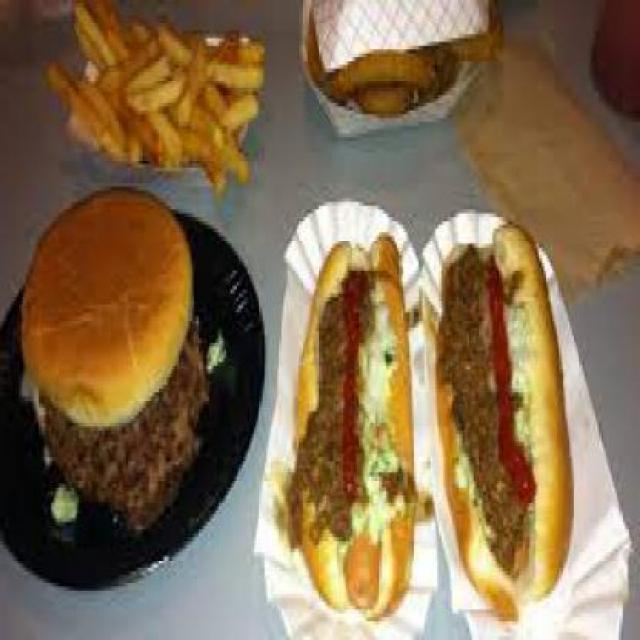hamburger: (2, 183, 207, 545)
hot dog: (275, 206, 570, 628)
